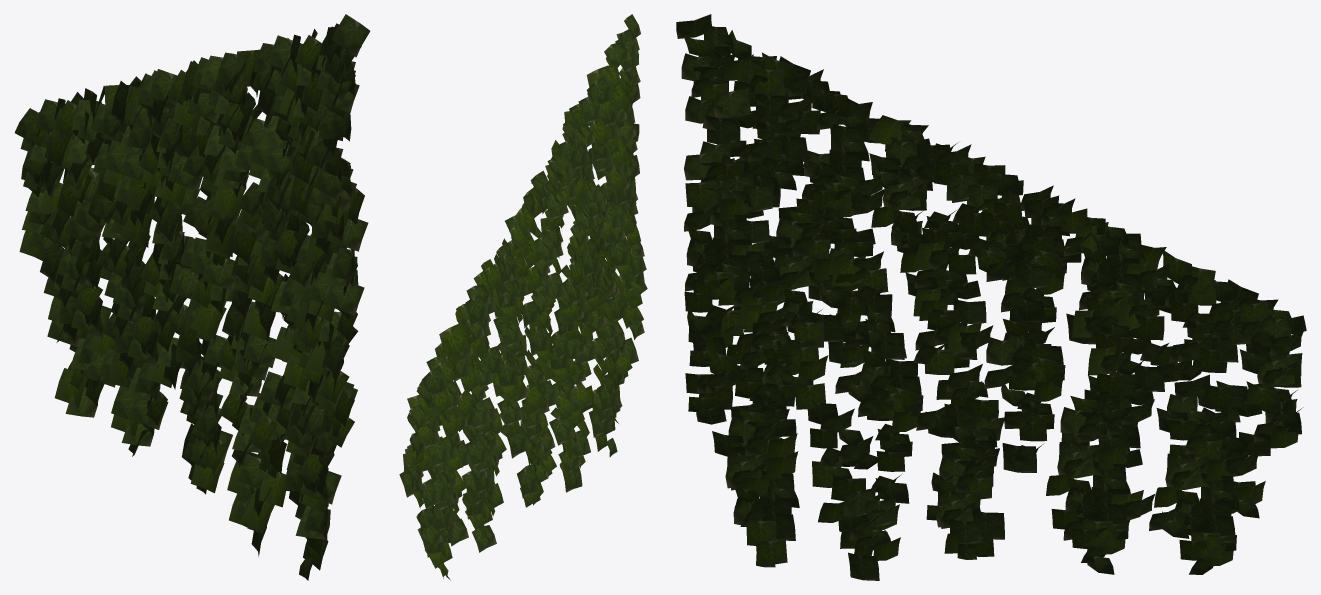
The model's file is SM_SM_IvyA_01.fbx.
3 renders of one model, left to right at view 1: azimuth 30°, elevation 25°; view 2: azimuth 150°, elevation 25°; view 3: azimuth 270°, elevation 25°, orthographic. The views are drawn at different scales.
Visible parts, largest first — view 1: SM_SM_IvyA_01_LOD0; view 2: SM_SM_IvyA_01_LOD0; view 3: SM_SM_IvyA_01_LOD0.
Part boxes in pixels (bbox=[...]): SM_SM_IvyA_01_LOD0: bbox=[14, 14, 370, 580]; SM_SM_IvyA_01_LOD0: bbox=[399, 14, 647, 580]; SM_SM_IvyA_01_LOD0: bbox=[676, 14, 1306, 580].
Size of the model in its own units: 19.91 by 290 by 289.
